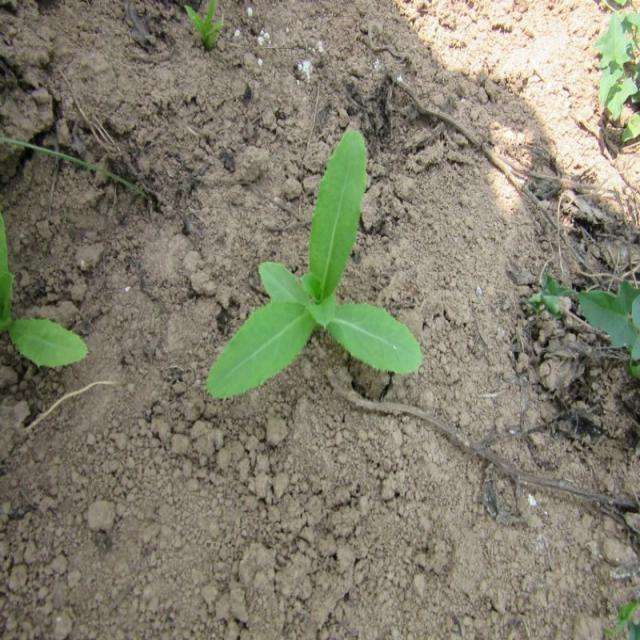field_thistle: (162, 94, 418, 423)
